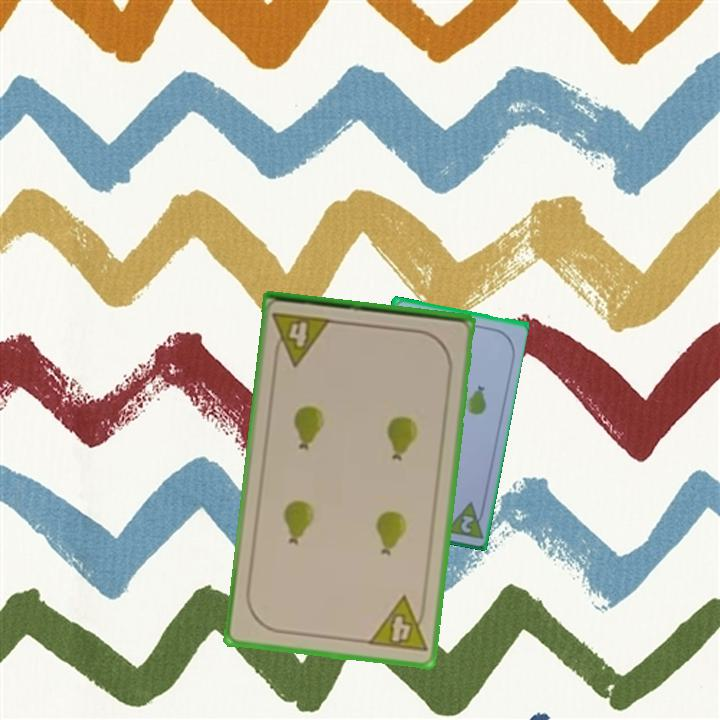2p: (440, 497, 488, 542)
4p: (364, 593, 430, 656), (269, 308, 335, 368)
